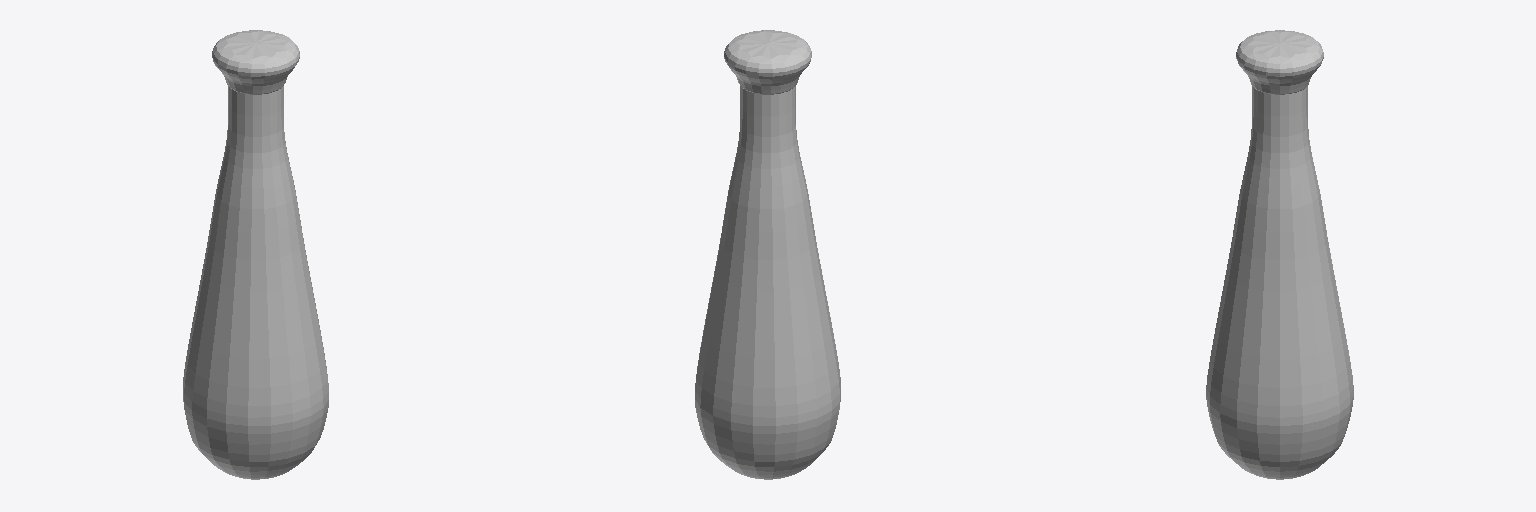
Rendered from Bottle.obj.
3 renders of one model, left to right at view 1: azimuth 30°, elevation 25°; view 2: azimuth 150°, elevation 25°; view 3: azimuth 270°, elevation 25°, orthographic.
Visible parts, largest first — view 1: Cylinder, Cylinder.001; view 2: Cylinder, Cylinder.001; view 3: Cylinder, Cylinder.001.
Part boxes in pixels (bbox=[...]): Cylinder: bbox=[183, 86, 328, 479]; Cylinder.001: bbox=[212, 30, 299, 94]; Cylinder: bbox=[695, 86, 840, 479]; Cylinder.001: bbox=[724, 30, 811, 94]; Cylinder: bbox=[1206, 86, 1353, 479]; Cylinder.001: bbox=[1236, 30, 1323, 94].
Size of the model in its own units: 2.68 by 8.51 by 2.68.